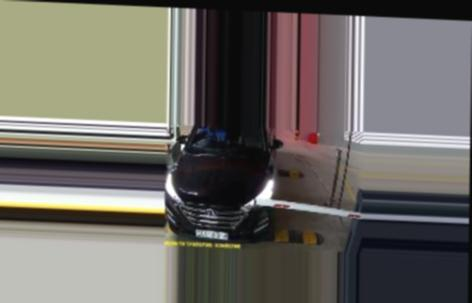License_Plate: (195, 228, 227, 241)
